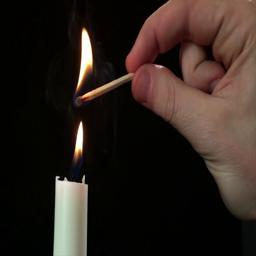fire: (78, 28, 94, 92), (74, 121, 84, 162)
